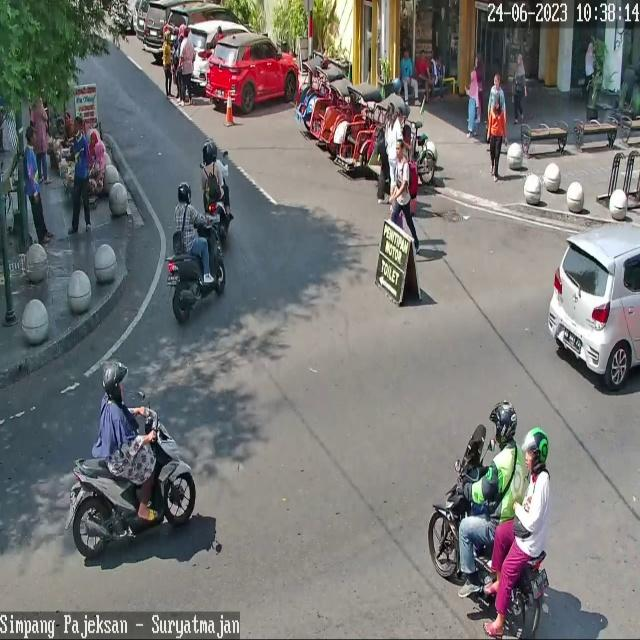bus: (429, 462, 550, 640), (72, 406, 196, 558), (169, 214, 226, 324), (208, 202, 226, 232)
motorcycle: (548, 223, 640, 390), (206, 34, 300, 114), (190, 21, 252, 88), (163, 3, 243, 30), (143, 0, 169, 53)
